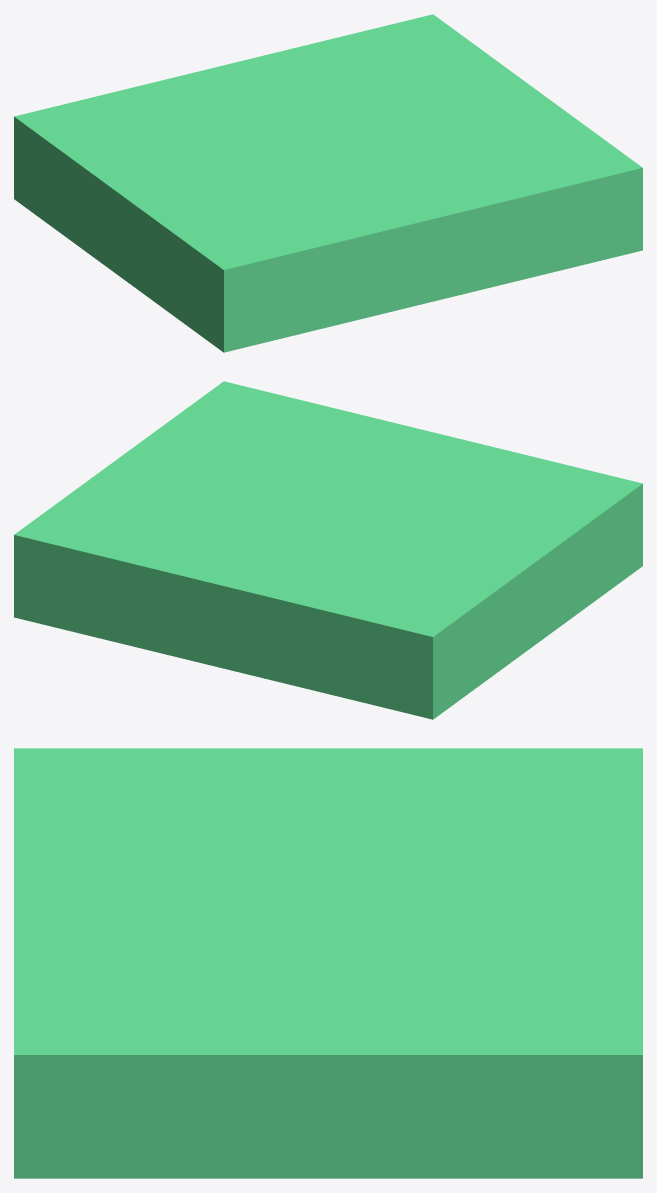
The model's file is rubble_pile_i.glb.
3 renders of one model, top to bottom at view 1: azimuth 30°, elevation 25°; view 2: azimuth 150°, elevation 25°; view 3: azimuth 270°, elevation 25°, orthographic. The views are drawn at different scales.
Visible parts, largest first — view 1: rubble_pile_i-col; view 2: rubble_pile_i-col; view 3: rubble_pile_i-col.
Boxes of the visible parts, bbox=[...] form: rubble_pile_i-col: bbox=[14, 14, 642, 352]; rubble_pile_i-col: bbox=[14, 381, 642, 719]; rubble_pile_i-col: bbox=[14, 748, 642, 1178].
Size of the model in its own units: 3.3 by 0.621 by 2.86.
